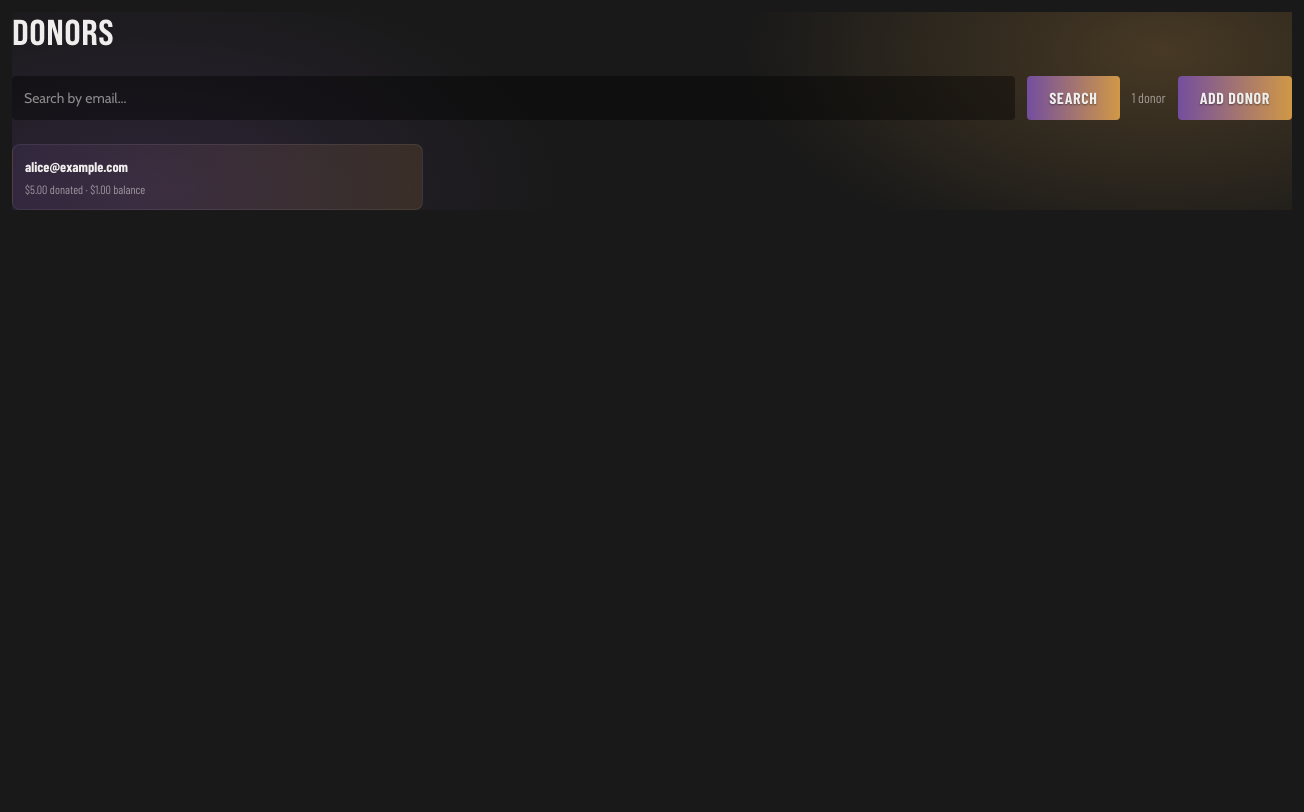
Test: AdminDonors › shows poll votes and fund contributions in the spend history
The image size is (1304, 812).
Step 1. Click the text "alice@example.com" → (76, 166), box [25,158,128,175]
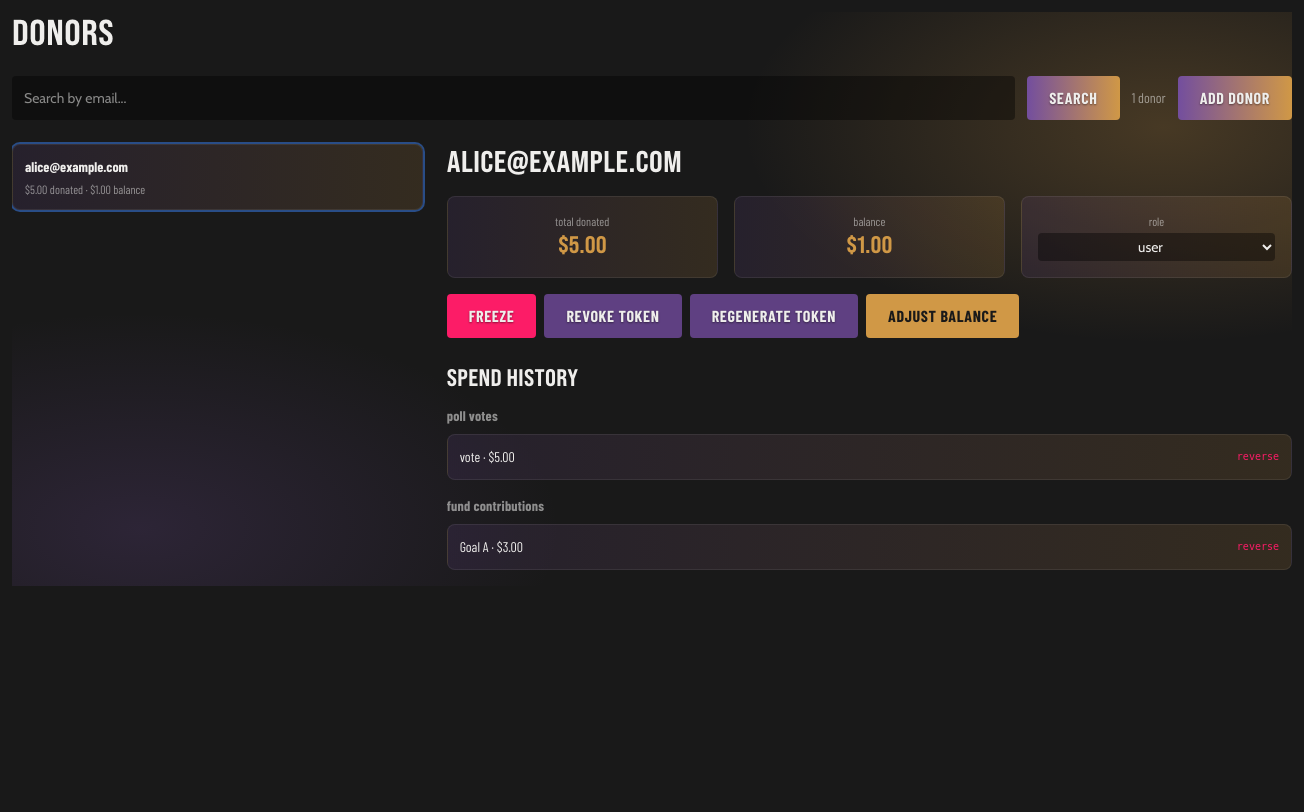
Now the heading "poll votes" is shown, box [447,407,498,424]
Now the heading "fund contributions" is shown, box [447,497,544,514]
Now the text "Goal A · $3.00" is shown, box [460,538,523,555]
